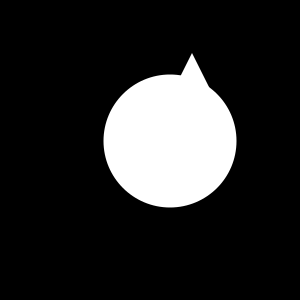rectangle: (103, 74, 236, 208)
triangle: (149, 53, 235, 139)
